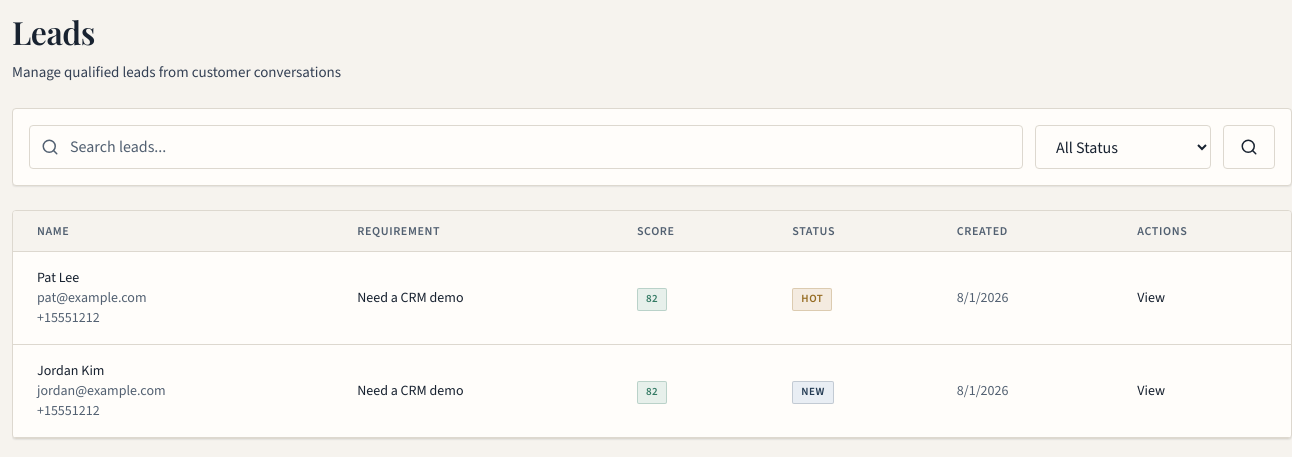
Leads search and status filters › filters by search query and restores results when cleared
Expected: the text "Pat Lee" is shown, [37,268,79,287]
Expected: the text "Jordan Kim" is shown, [37,361,104,380]
Type "Jordan" into the field with placeholder "Search leads...".
click(526, 147); type("Jordan")  # box [29,125,1023,169]
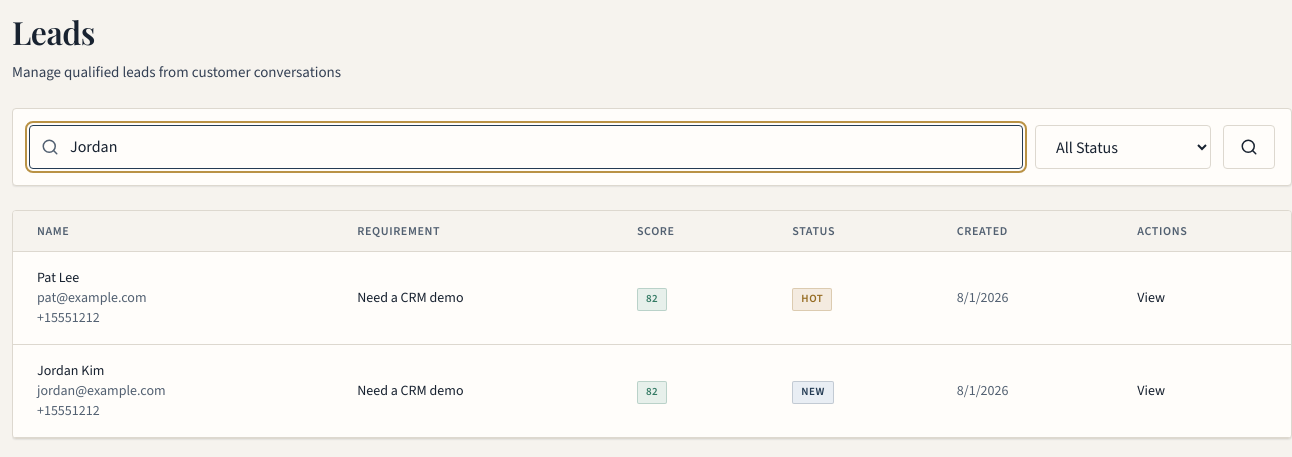
Click the button named "Search leads".
click(1249, 147)  # box [1223,125,1275,169]
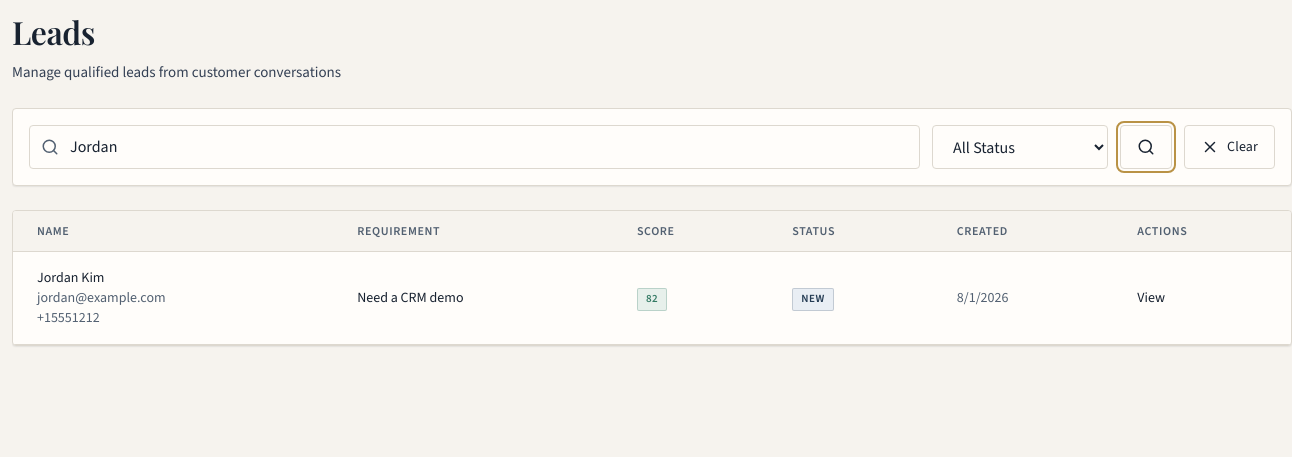
Expected: the text "Jordan Kim" is shown, [37,268,104,287]
Expected: the text "Pat Lee" is gone
Click the button "Clear".
click(1230, 147)  # box [1184,125,1275,169]
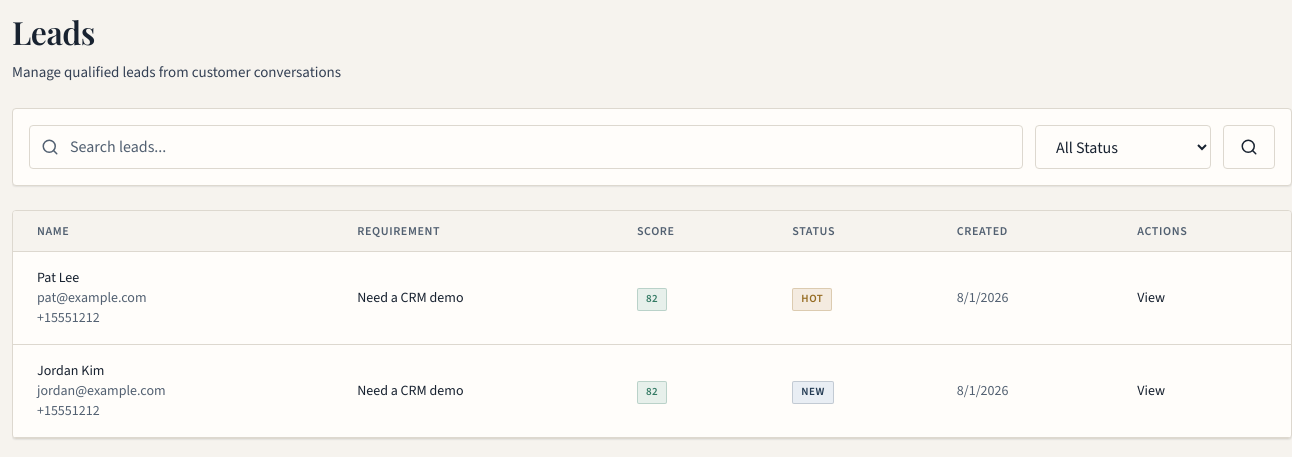
Expected: the text "Jordan Kim" is shown, [37,361,104,380]
Expected: the text "Pat Lee" is shown, [37,268,79,287]
